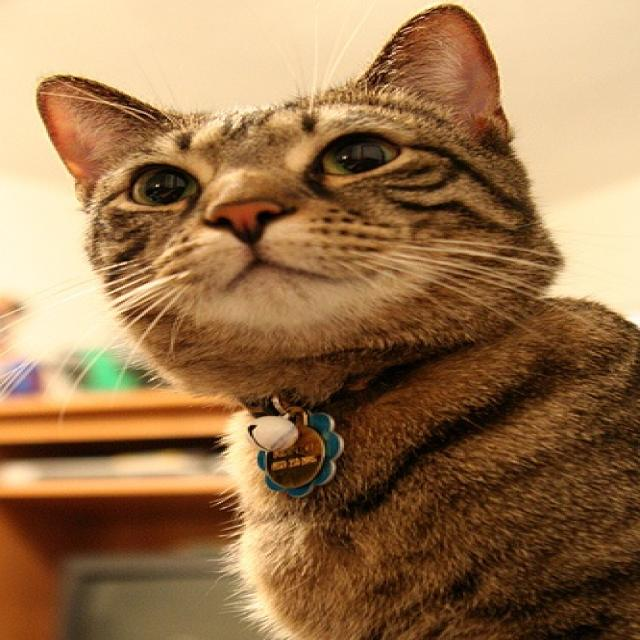cat: (36, 2, 639, 640)
